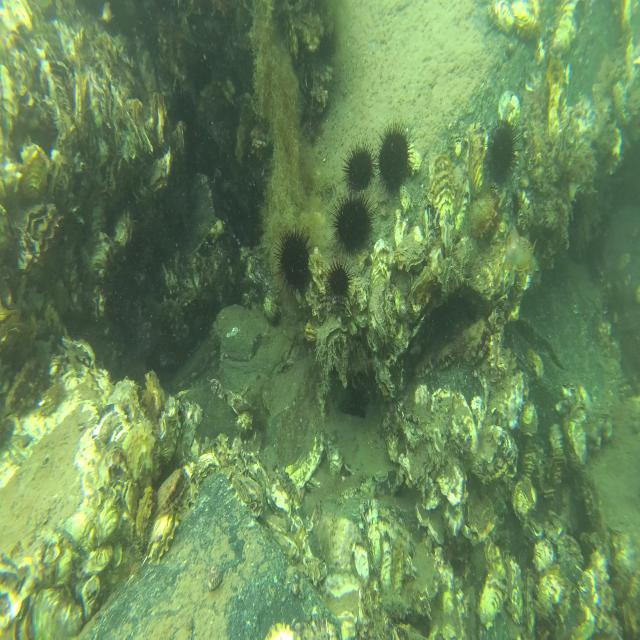echinus: (271, 223, 312, 300), (378, 119, 416, 199), (330, 189, 377, 253), (485, 116, 522, 195), (340, 137, 380, 195), (322, 253, 354, 306)
scallop: (156, 465, 188, 520)
